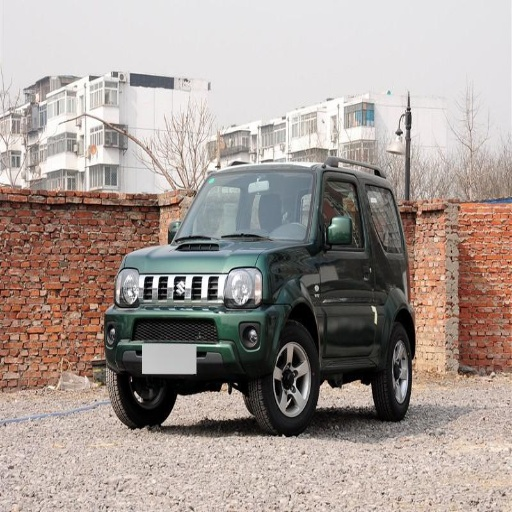front_bumper: (104, 271, 282, 372)
front_glass: (177, 171, 316, 240)
front_left_door: (320, 176, 372, 346)
